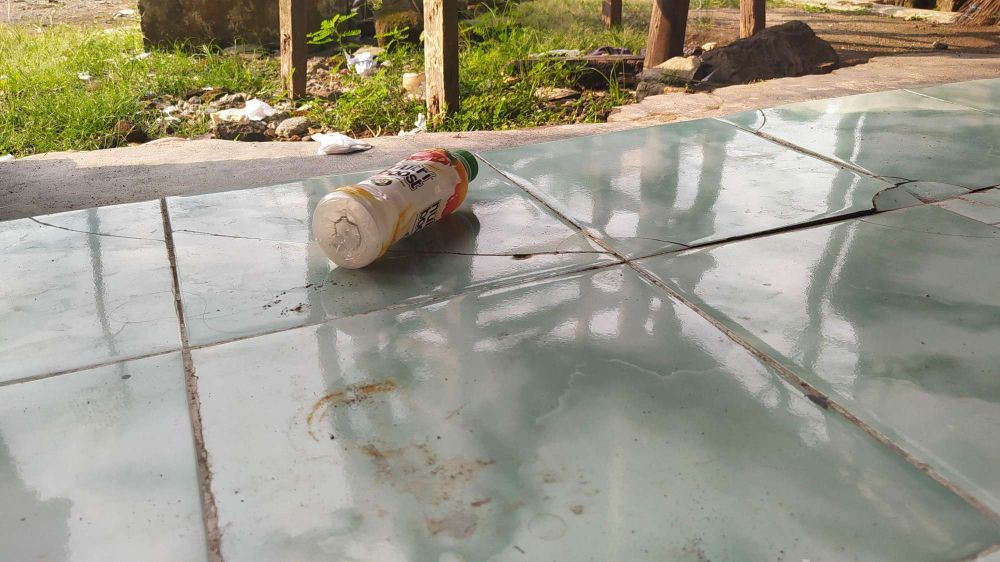botol: (276, 135, 503, 275)
